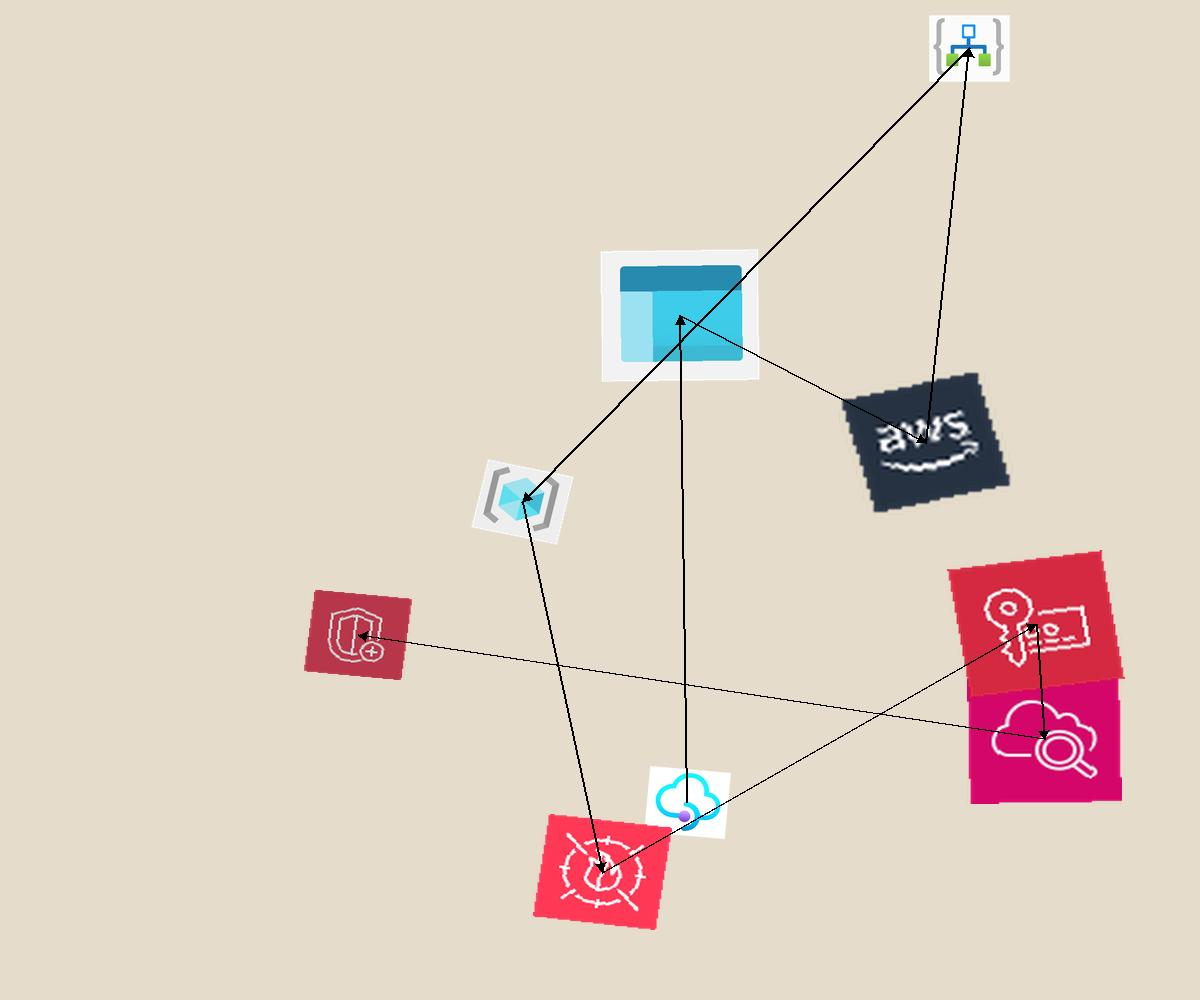AWS-Cloud-logo: (839, 370, 1013, 515)
AWS-CloudWatch: (967, 675, 1122, 804)
AWS-Key-Management-Service: (947, 550, 1125, 698)
AWS-Shield: (303, 589, 413, 681)
AWS-WAF: (533, 814, 672, 930)
Azure_api_gateway: (644, 766, 731, 839)
Azure_integration-204-Logic-Apps: (929, 15, 1010, 82)
Azure_management-portal: (600, 249, 760, 382)
Azure_resource_group: (471, 459, 574, 545)
